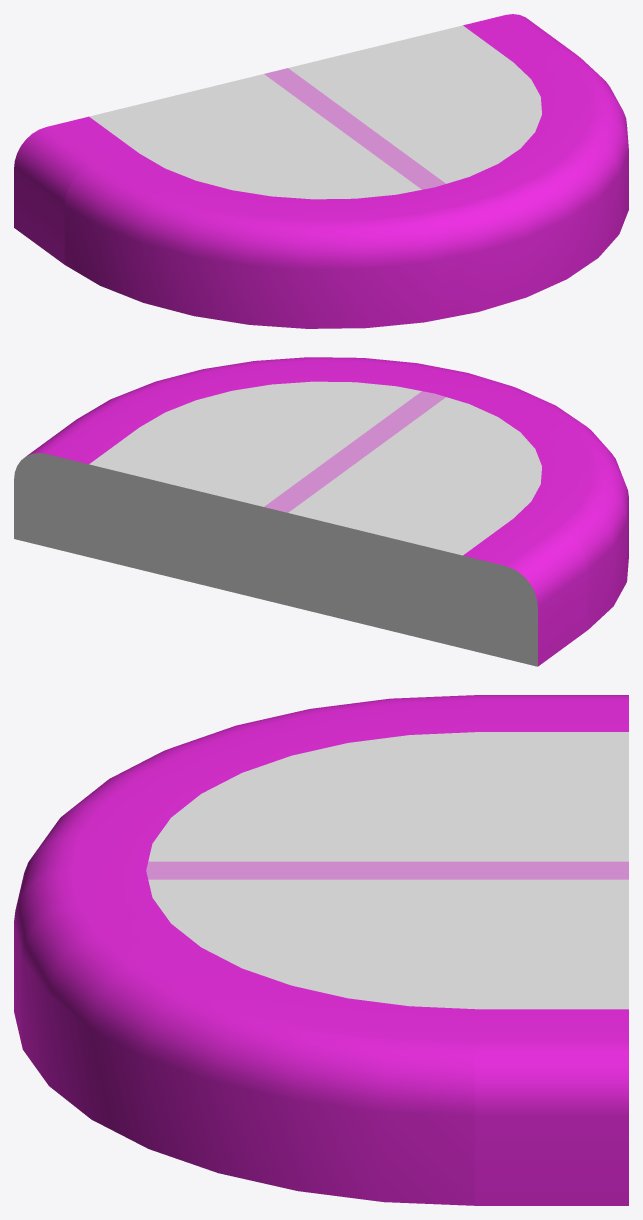
The model's file is TransportWayRoad4.fbx.
The picture shows the model from 3 angles, top to bottom: view 1: azimuth 30°, elevation 25°; view 2: azimuth 150°, elevation 25°; view 3: azimuth 270°, elevation 25°; orthographic projection. The views are drawn at different scales.
Visible parts, largest first — view 1: TransportWay, TransportWay2; view 2: TransportWay2, TransportWay; view 3: TransportWay, TransportWay2.
Part boxes in pixels (left/top/right/bottom): TransportWay: left=64, top=51, right=628, bottom=328; TransportWay2: left=14, top=14, right=575, bottom=264; TransportWay2: left=14, top=416, right=588, bottom=666; TransportWay: left=78, top=357, right=628, bottom=629; TransportWay: left=14, top=695, right=475, bottom=1205; TransportWay2: left=475, top=695, right=628, bottom=1205.
Size of the model in its own units: 11.8 by 2 by 7.9.
